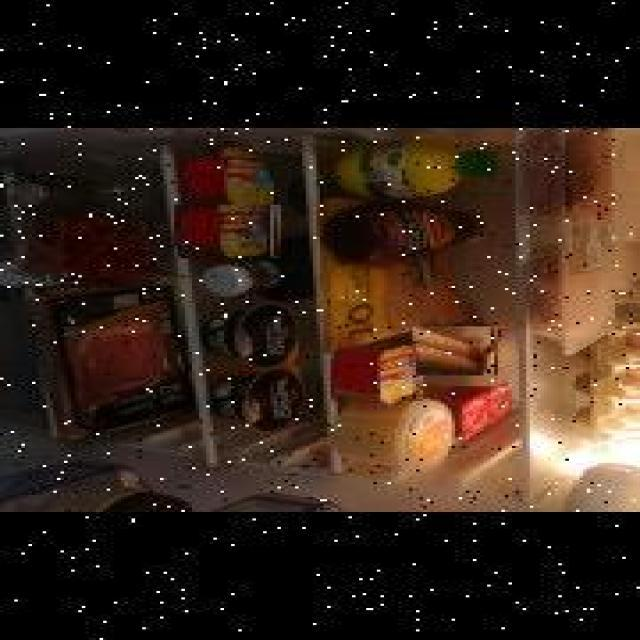sausage: (412, 326, 494, 376)
yogurt: (180, 144, 272, 204), (176, 204, 276, 258), (332, 346, 418, 402)
